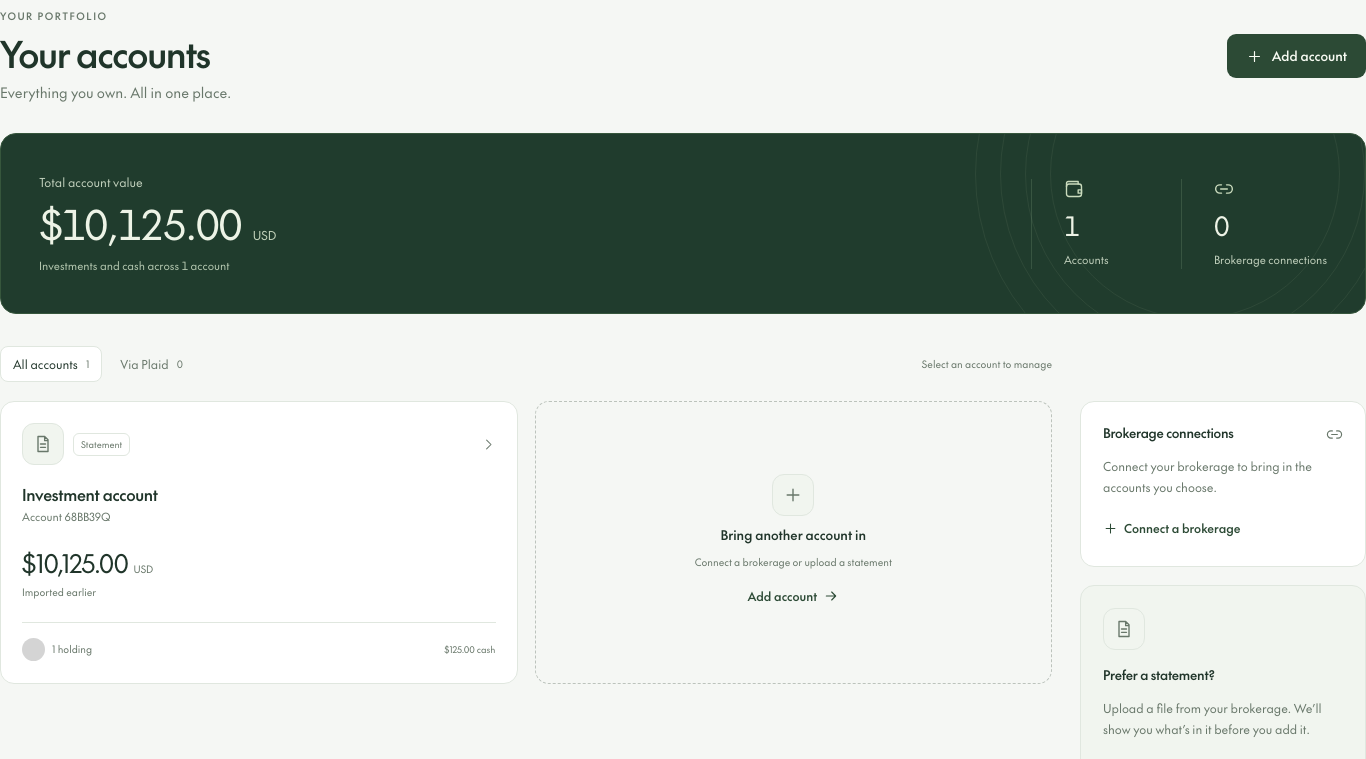
account registration settings › defaults an unclassified account to Unknown
This screenshot has width=1366, height=759.
Click the button with aria-label "Manage account 68BB39Q". click: {"x": 43, "y": 444}
box: [0,401,518,684]
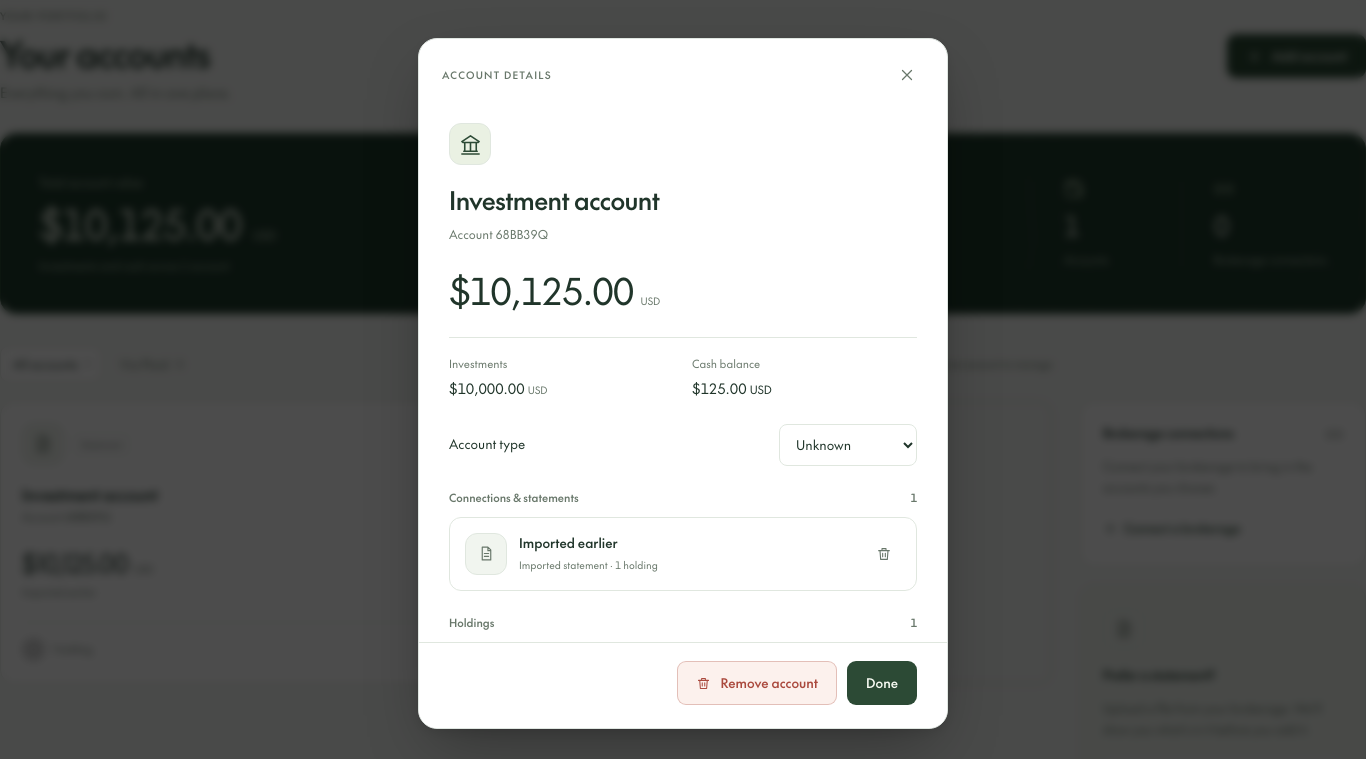
Check: the dropdown labelled "Account type" is enabled, box [779,424,917,466]
Check: the dropdown labelled "Account type" shows "Unknown", box [779,424,917,466]
